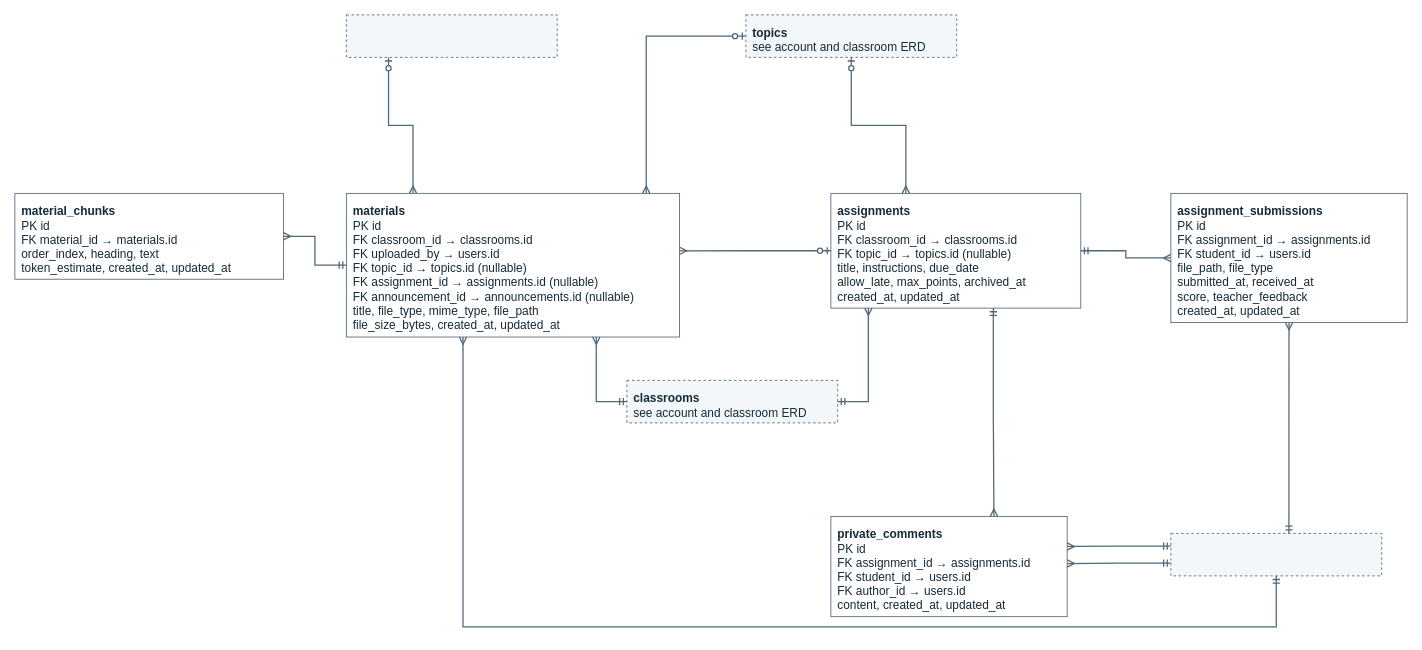
The diagram is 1422 pixels wide and 650 high, and some of its shapes have lost their labels. Each missing label, with the centre of its shape:
announcements see account and classroom ERD: point 451,35
users see account and classroom ERD: point 1276,554
